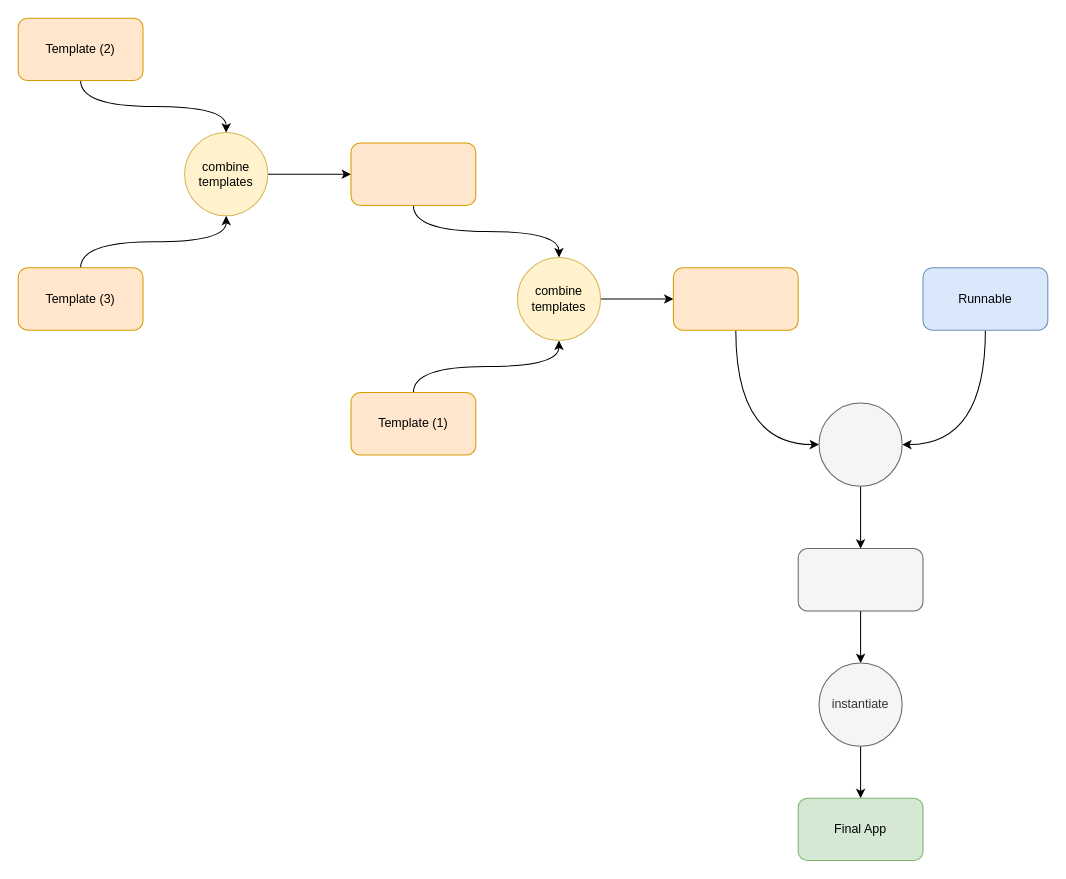
Image size: 1066x879. Some labels were removed from this diagram. Here are the shapes that lost their labels. From the top down, the box of each, then its label:
(350, 142, 476, 205): Template (23)
(672, 267, 798, 330): Template (123)
(818, 402, 902, 486): contrsuct class
(797, 548, 923, 611): Final App Class
